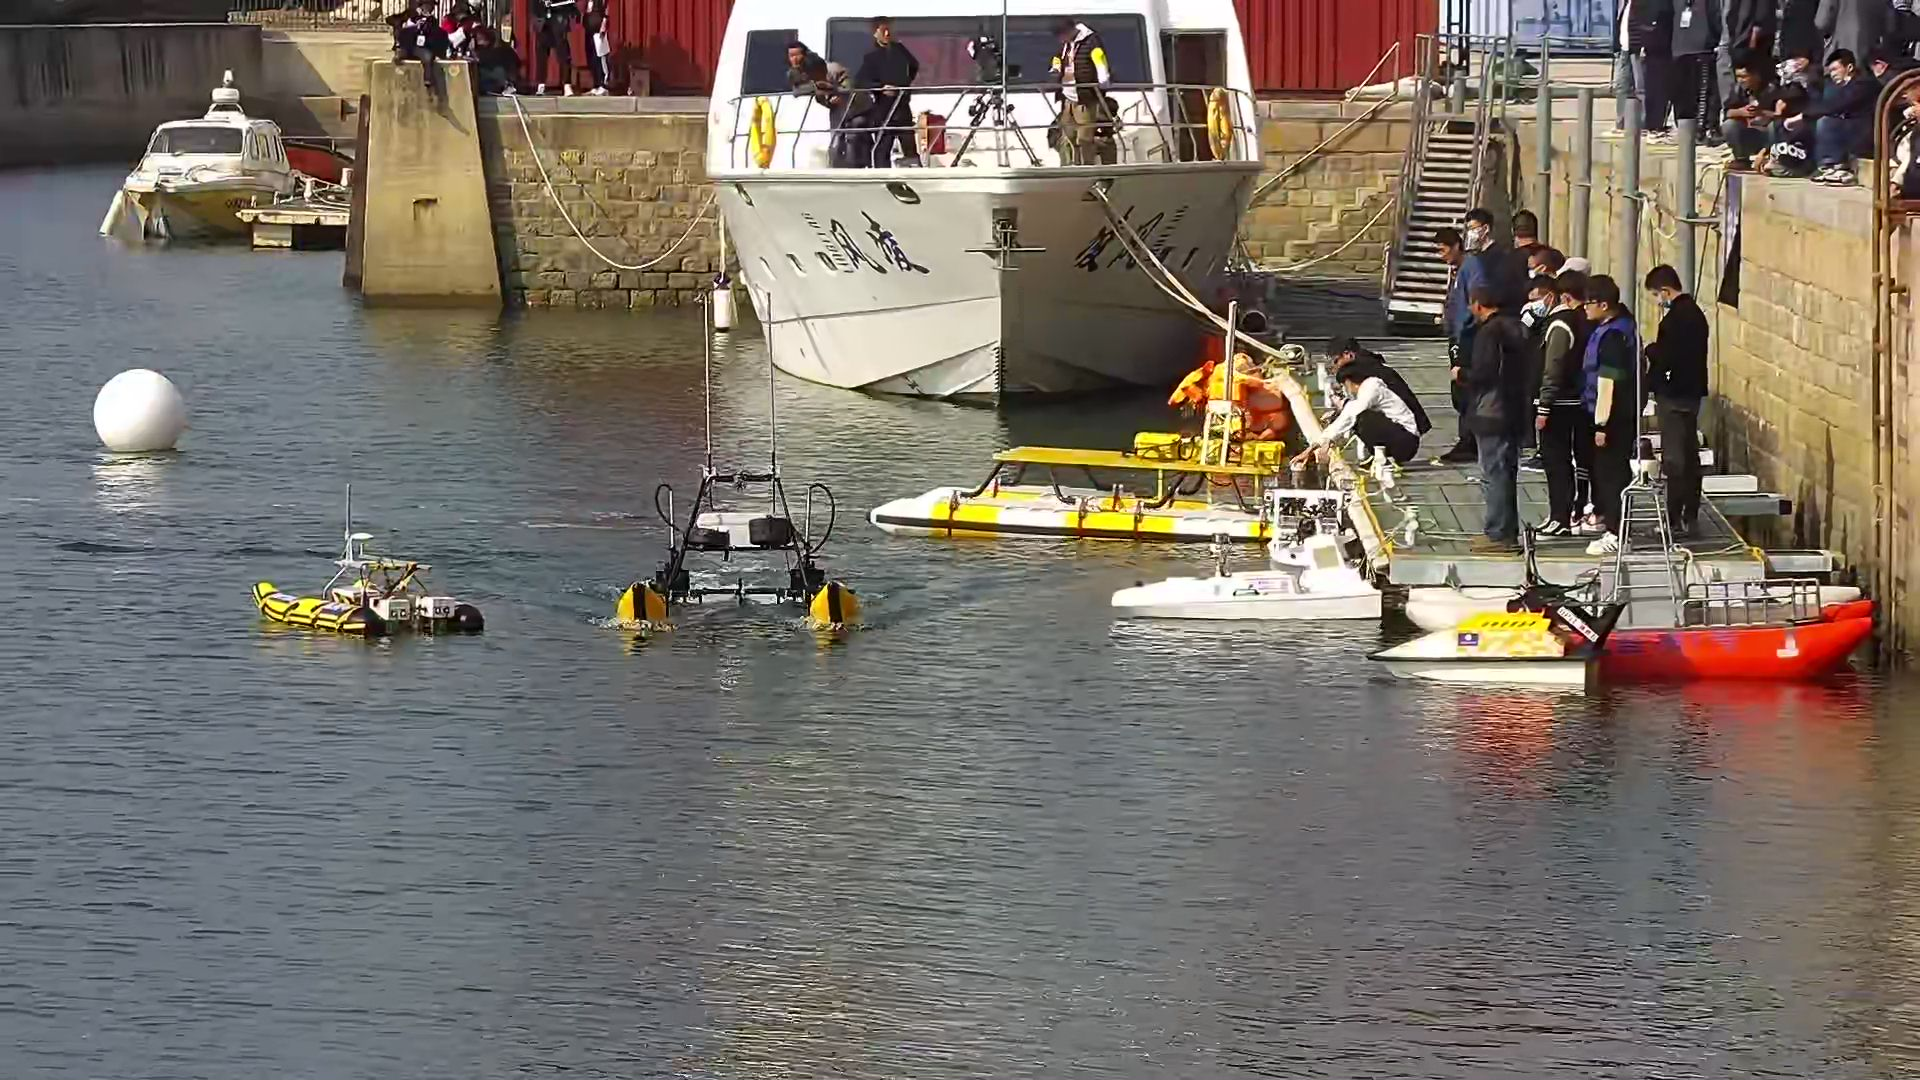ball: (93, 364, 191, 463)
boat: (1372, 564, 1866, 692), (867, 435, 1297, 550), (616, 459, 861, 645), (240, 534, 485, 642), (1111, 555, 1385, 623)
harbor: (1235, 249, 1772, 620)
person: (1447, 277, 1526, 549), (1640, 265, 1712, 539), (1577, 280, 1633, 551), (1519, 284, 1574, 541), (1328, 335, 1430, 444), (852, 20, 923, 164), (782, 41, 858, 169), (1045, 17, 1109, 168), (1333, 370, 1421, 468), (1463, 206, 1510, 302), (1434, 223, 1478, 322)
ship: (707, 3, 1230, 402), (115, 72, 295, 245)
